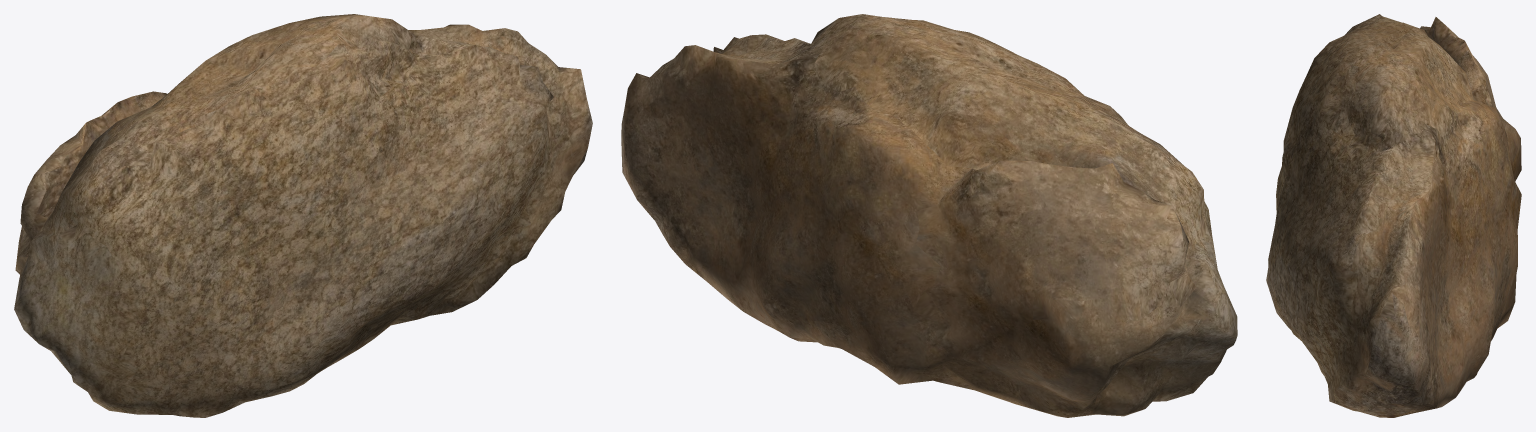
Rendered from boulder.glb.
The picture shows the model from 3 angles, left to right: view 1: azimuth 30°, elevation 25°; view 2: azimuth 150°, elevation 25°; view 3: azimuth 270°, elevation 25°; orthographic projection. The views are drawn at different scales.
Visible parts, largest first — view 1: boulder; view 2: boulder; view 3: boulder.
Part boxes in pixels (x1,y1,x2,y2): boulder: (14,14,592,417); boulder: (621,14,1237,417); boulder: (1266,14,1521,417).
Size of the model in its own units: 1.36 by 0.74 by 0.5248.
1 material, 1 textured.
